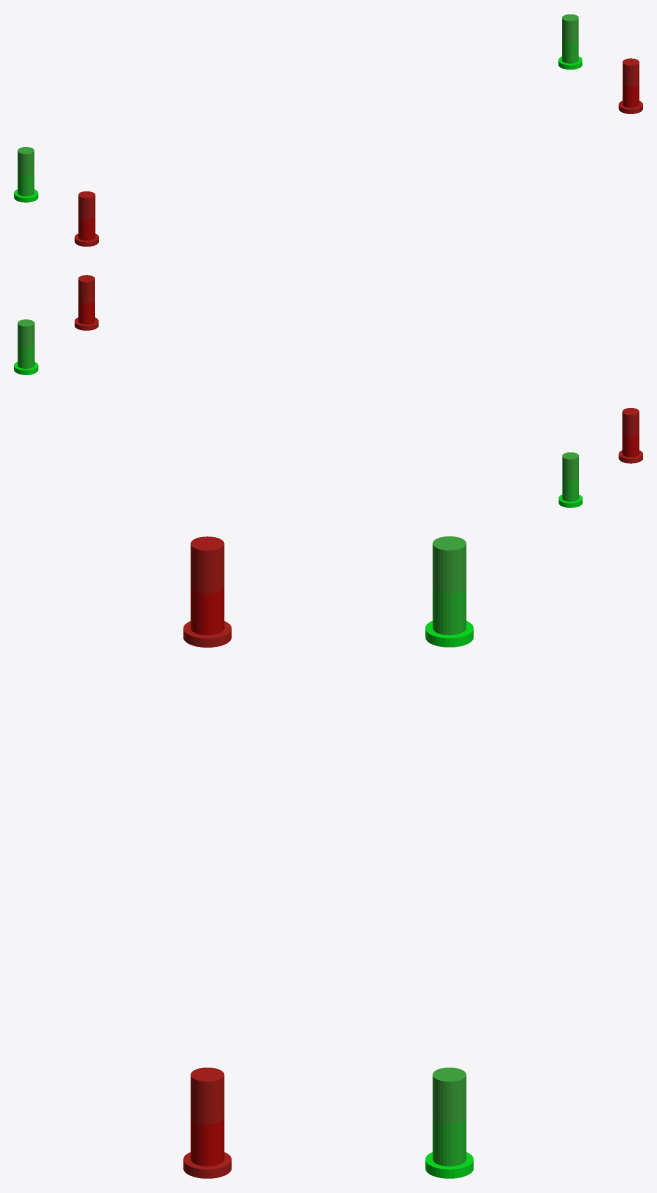
Rendered from NavigationDemonstration2.dae.
3 views of the same model, one above another, from view 1: azimuth 30°, elevation 25°; view 2: azimuth 150°, elevation 25°; view 3: azimuth 270°, elevation 25° (orthographic). The views are drawn at different scales.
Visible parts, largest first — view 1: Cylinder.002, Cylinder.003, Cylinder.001, Cylinder; view 2: Cylinder, Cylinder.003, Cylinder.002, Cylinder.001; view 3: Cylinder.003, Cylinder.002, Cylinder, Cylinder.001.
Part boxes in pixels (x1,y1,x2,y2): Cylinder.002: (618, 58, 642, 113); Cylinder.003: (74, 191, 98, 246); Cylinder.001: (14, 147, 38, 202); Cylinder: (558, 14, 582, 69); Cylinder: (14, 319, 38, 374); Cylinder.003: (618, 408, 642, 463); Cylinder.002: (74, 275, 98, 330); Cylinder.001: (558, 452, 582, 507); Cylinder.003: (183, 536, 231, 647); Cylinder.002: (183, 1067, 231, 1178); Cylinder: (425, 1067, 473, 1178); Cylinder.001: (425, 536, 473, 647).
Size of the model in its own units: 15.51 by 3.45 by 1.23.
